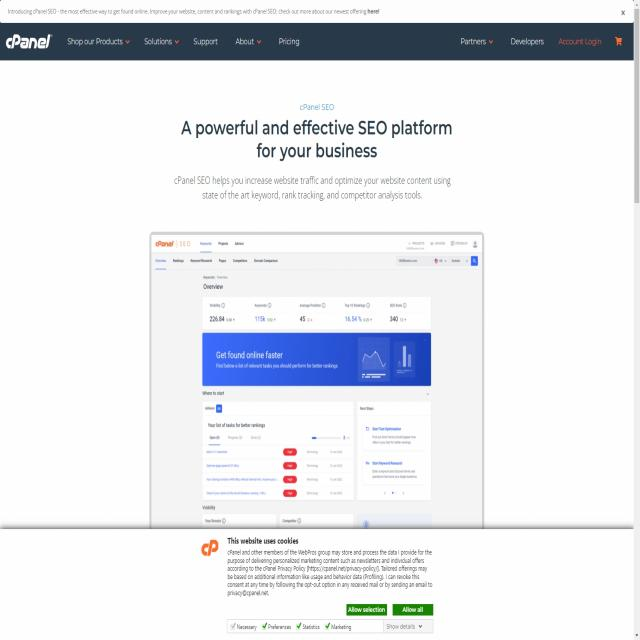menu-bar: (63, 26, 306, 52), (456, 29, 630, 52)
